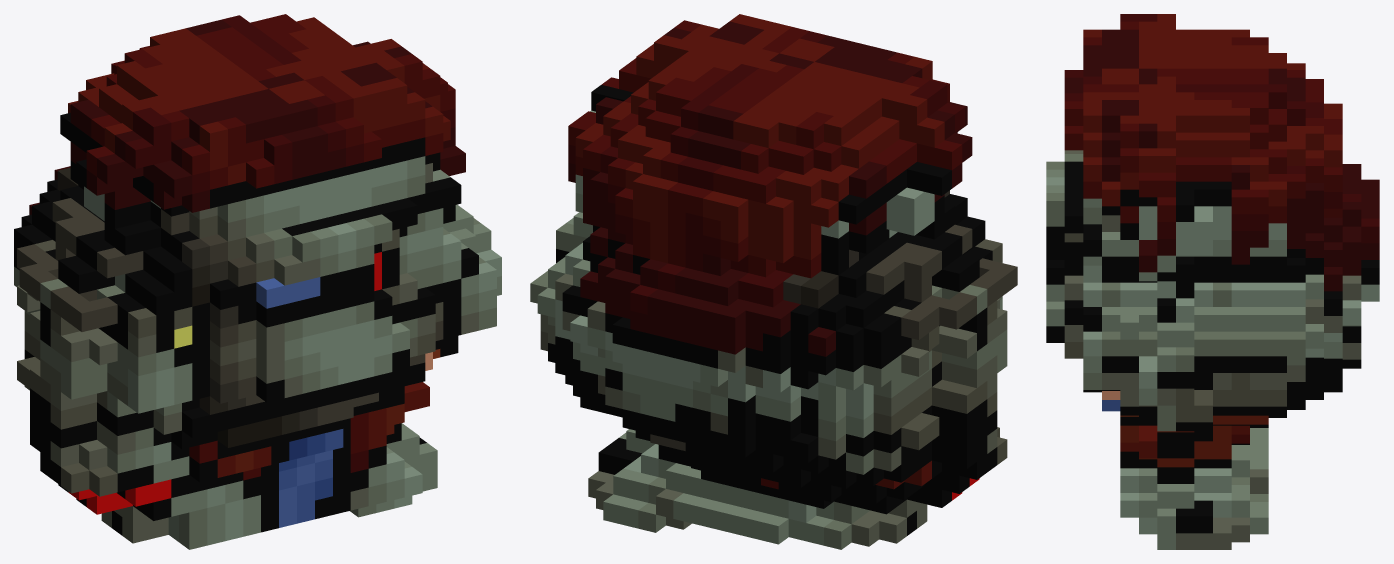
The model's file is Icon_739_01.obj.
3 renders of one model, left to right at view 1: azimuth 30°, elevation 25°; view 2: azimuth 150°, elevation 25°; view 3: azimuth 270°, elevation 25°, orthographic. The views are drawn at different scales.
Bounding box in the file's own units: 2.4 × 2.4 × 1.8.
Materials: 1 (1 with a texture image).
